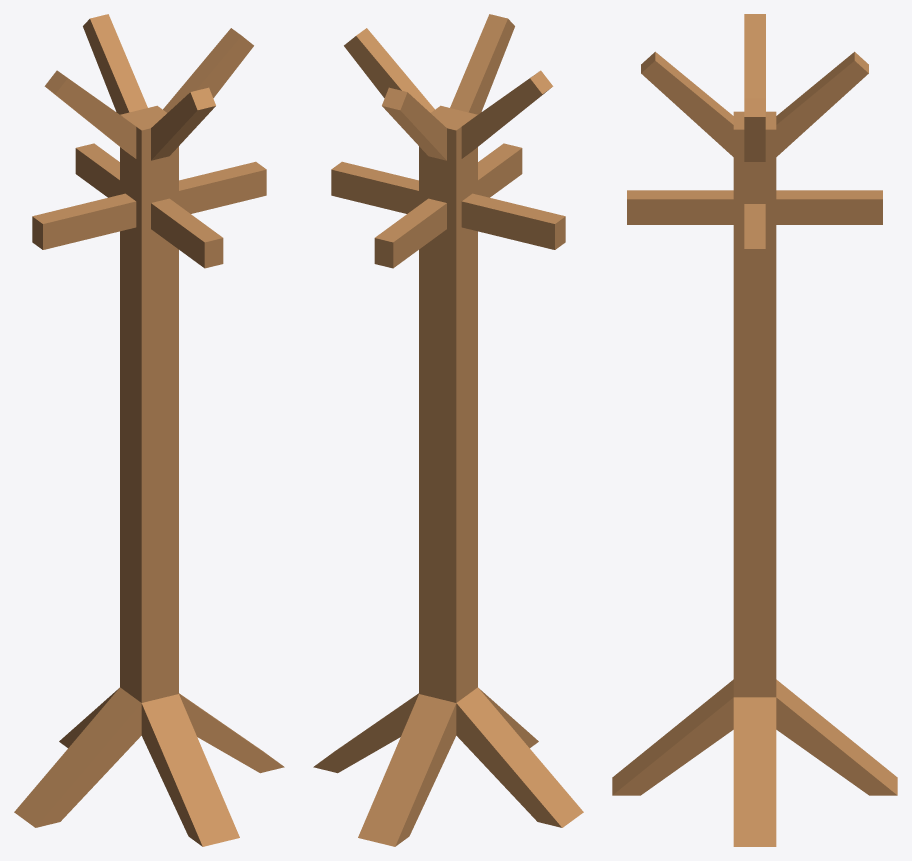
File: kitCoatRackStanding.glb
3 renders of one model, left to right at view 1: azimuth 30°, elevation 25°; view 2: azimuth 150°, elevation 25°; view 3: azimuth 270°, elevation 25°, orthographic.
Visible parts, largest first — view 1: kitCoatRackStanding_wood; view 2: kitCoatRackStanding_wood; view 3: kitCoatRackStanding_wood.
Boxes of the visible parts, bbox=[...] form: kitCoatRackStanding_wood: bbox=[14, 14, 284, 846]; kitCoatRackStanding_wood: bbox=[313, 14, 583, 846]; kitCoatRackStanding_wood: bbox=[612, 14, 897, 846].
Bounding box in the file's own units: 0.5456 × 1.54 × 0.5456.
